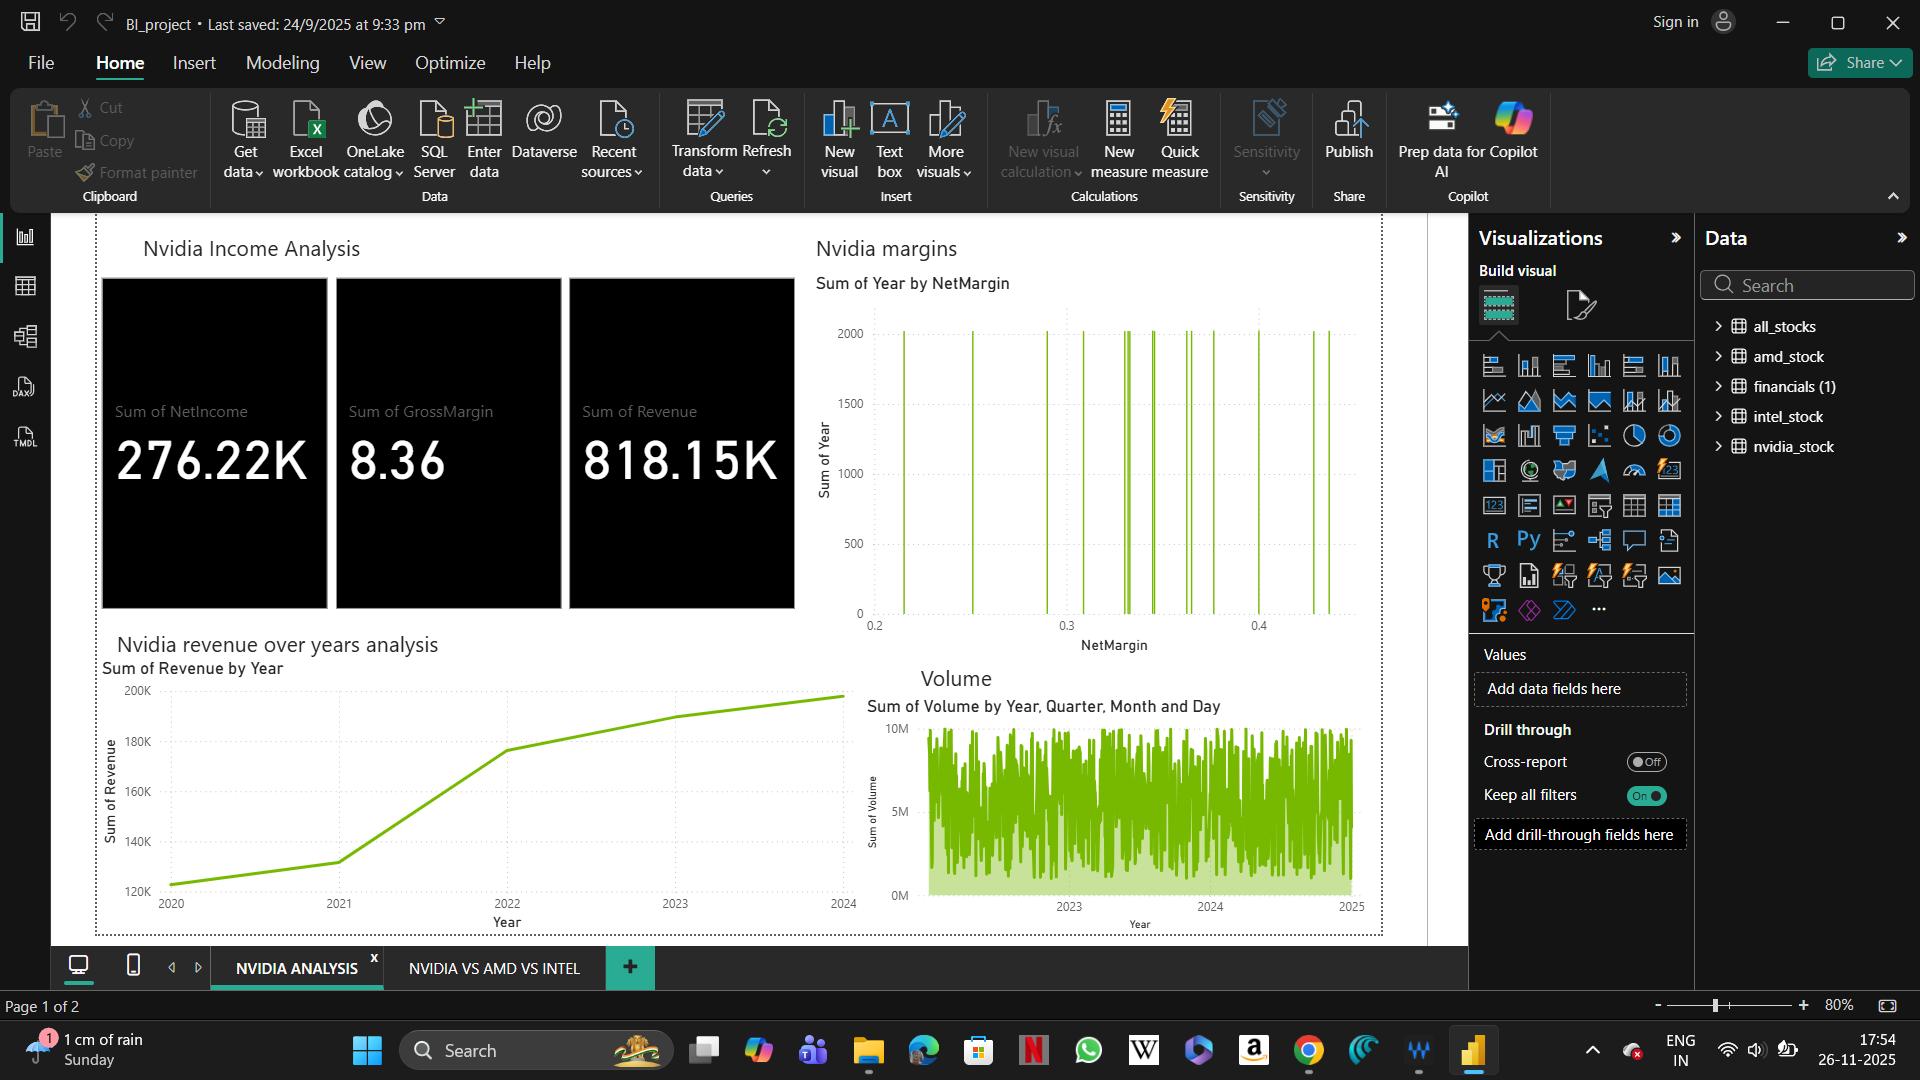

Layout of this report page (visuals, bound fields, positions):
{"tool":"powerbi","page":{"name":"NVIDIA ANALYSIS","canvas":[1280,720],"ordinal":0},"visuals":[{"type":"textbox","box":[10,0,280,280],"z":0},{"type":"textbox","box":[0,15.3,279.7,281],"z":1000},{"type":"cardVisual","fields":{"Data":["financials (1).NetIncome","financials (1).GrossMargin","financials (1).Revenue"]},"box":[0,59.8,702.6,340.9],"z":2000},{"type":"textbox","box":[0,410,817,310],"z":3000},{"type":"lineChart","fields":{"Category":["financials (1).Year"],"Y":["financials (1).Revenue"]},"box":[0,443.8,762.4,276.9],"z":4000},{"type":"textbox","box":[712.3,15.3,567.7,385.4],"z":5000},{"type":"columnChart","fields":{"Category":["financials (1).NetMargin","financials (1).OperatingMargin","financials (1).GrossMargin"],"Y":["financials (1).Year"]},"box":[712.3,59.8,556.5,384],"z":6000},{"type":"textbox","box":[817,444,452,276],"z":7000},{"type":"areaChart","fields":{"Category":["nvidia_stock.Date.Variation.Date Hierarchy.Year","nvidia_stock.Date.Variation.Date Hierarchy.Quarter","nvidia_stock.Date.Variation.Date Hierarchy.Month","nvidia_stock.Date.Variation.Date Hierarchy.Day"],"Y":["nvidia_stock.Volume"]},"box":[762.4,481.4,506.4,239.3],"z":8000}]}

Visuals, with their boxes on the page's 1280x720 design canvas (x1, y1, x2, y2). These are canvas units, not pixel positions in the 1920x1080 screenshot, which may show the page scaled, cropped or inside an application window:
textbox: box=[10, 0, 290, 280]
textbox: box=[0, 15, 280, 296]
cardVisual - financials (1).NetIncome x financials (1).GrossMargin: box=[0, 60, 703, 401]
textbox: box=[0, 410, 817, 720]
lineChart - financials (1).Year x financials (1).Revenue: box=[0, 444, 762, 721]
textbox: box=[712, 15, 1280, 401]
columnChart - financials (1).NetMargin x financials (1).OperatingMargin: box=[712, 60, 1269, 444]
textbox: box=[817, 444, 1269, 720]
areaChart - nvidia_stock.Date.Variation.Date Hierarchy.Year x nvidia_stock.Date.Variation.Date Hierarchy.Quarter: box=[762, 481, 1269, 721]
